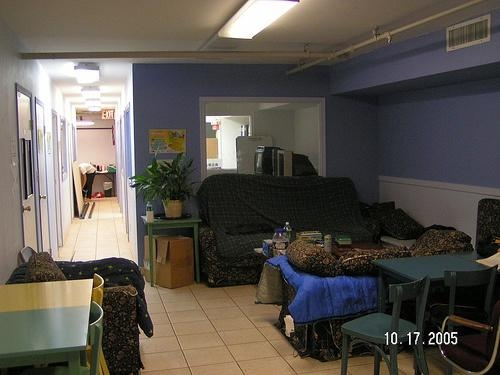chair: (341, 276, 433, 375), (439, 298, 500, 375), (52, 300, 106, 375), (441, 266, 500, 322), (90, 273, 111, 375)
pottedplant: (129, 151, 203, 218)
sofa: (278, 228, 475, 362), (196, 173, 384, 290), (5, 252, 155, 375)
tvmonitor: (276, 149, 320, 177)
